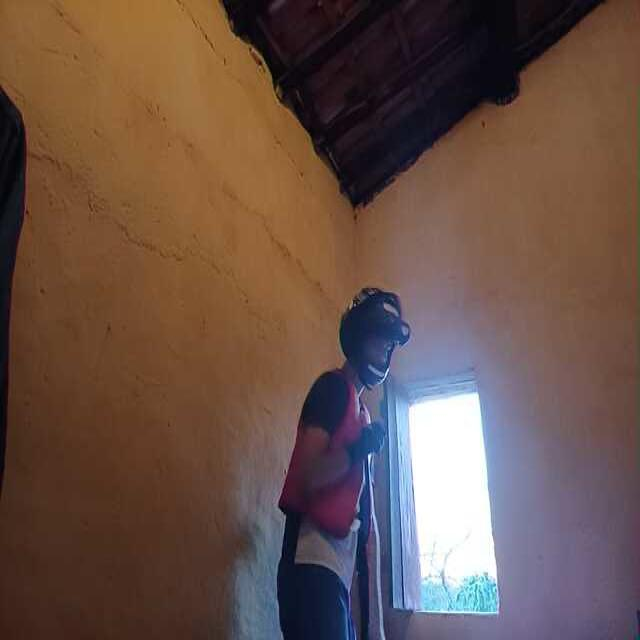capacete: (338, 288, 408, 392)
colete: (298, 393, 372, 526)
pessoa: (275, 322, 379, 640)
